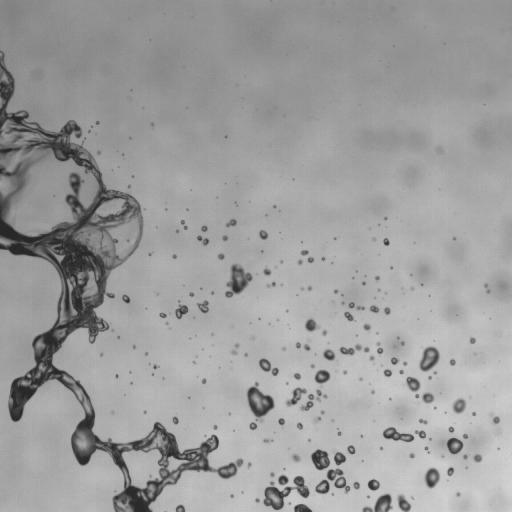droplet: (263, 474, 309, 509), (315, 451, 350, 493), (246, 382, 274, 429), (225, 264, 252, 297), (362, 493, 392, 511), (419, 346, 439, 371), (310, 449, 330, 470), (424, 467, 440, 488), (446, 437, 463, 454), (314, 369, 330, 385), (397, 494, 411, 511), (175, 302, 188, 319), (452, 398, 465, 413), (305, 318, 319, 331), (197, 300, 208, 313), (323, 349, 335, 360), (367, 479, 379, 490), (197, 235, 209, 245), (344, 312, 355, 321), (490, 414, 499, 424), (259, 230, 268, 239), (226, 219, 236, 227), (415, 430, 425, 438), (472, 454, 482, 462), (122, 294, 130, 303), (383, 369, 392, 377), (291, 454, 300, 462), (175, 504, 185, 511), (263, 267, 271, 275), (370, 305, 378, 313), (347, 445, 355, 453), (446, 467, 454, 475), (390, 357, 399, 364), (172, 416, 178, 424), (383, 238, 389, 245), (217, 253, 224, 259), (384, 307, 390, 314), (363, 324, 370, 330), (303, 344, 310, 350), (293, 373, 300, 379), (278, 418, 284, 425), (353, 482, 359, 489), (300, 250, 308, 255), (419, 419, 427, 424), (201, 225, 207, 231), (469, 337, 475, 343), (314, 416, 320, 422), (295, 342, 300, 349), (450, 358, 455, 365), (297, 422, 302, 429), (263, 438, 271, 442), (307, 257, 313, 262), (369, 355, 374, 361), (424, 446, 429, 452), (222, 235, 227, 240), (322, 330, 327, 335), (448, 427, 453, 432), (409, 453, 414, 458), (160, 313, 166, 317), (298, 259, 302, 264), (231, 350, 236, 354), (202, 378, 206, 383), (463, 454, 467, 459), (270, 472, 274, 477), (172, 254, 176, 258), (375, 276, 379, 280), (307, 286, 311, 290), (189, 292, 193, 296), (235, 343, 239, 347), (343, 370, 347, 374), (399, 370, 403, 374), (213, 425, 217, 429), (463, 434, 467, 438), (247, 463, 251, 467), (456, 492, 460, 496), (255, 498, 259, 502), (153, 365, 158, 368), (334, 289, 337, 293), (403, 362, 407, 365), (321, 410, 324, 414), (338, 431, 341, 435), (97, 151, 100, 154), (410, 287, 413, 290), (401, 341, 404, 344), (311, 364, 314, 367), (230, 494, 233, 497), (384, 217, 387, 219), (176, 230, 179, 232), (126, 239, 129, 241), (322, 257, 324, 260), (362, 282, 365, 284), (244, 353, 247, 355), (434, 371, 436, 374), (115, 375, 118, 377), (371, 391, 374, 393), (143, 411, 146, 413), (367, 495, 369, 498), (151, 123, 153, 125), (273, 205, 275, 207), (373, 238, 375, 240), (149, 253, 151, 255), (166, 322, 168, 324), (283, 348, 285, 350), (428, 377, 430, 379), (473, 412, 475, 414), (380, 447, 382, 449)
ligament: (0, 50, 243, 511), (406, 377, 434, 403), (300, 388, 327, 410), (382, 427, 413, 442), (285, 387, 306, 406), (259, 358, 278, 375), (340, 344, 369, 355), (293, 504, 312, 511), (348, 302, 364, 310), (376, 342, 383, 354), (181, 220, 187, 228), (484, 284, 489, 293), (267, 282, 275, 287)
